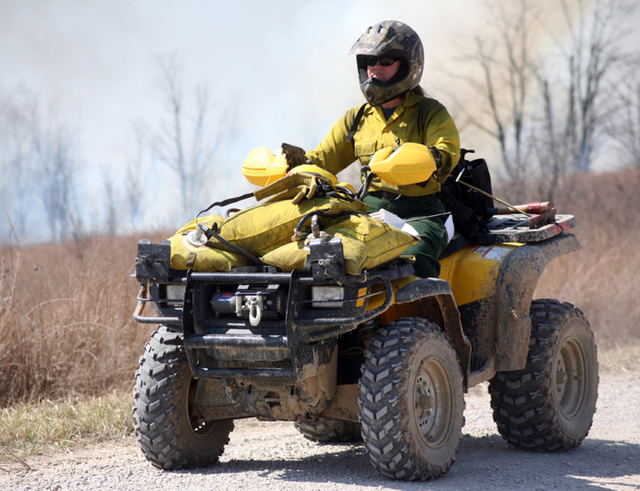helmet: (349, 24, 430, 93)
